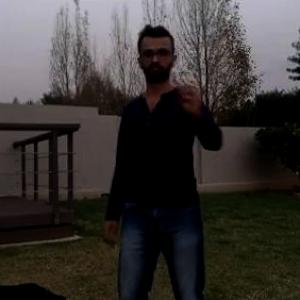takeoff-hand: (176, 68, 210, 120)
